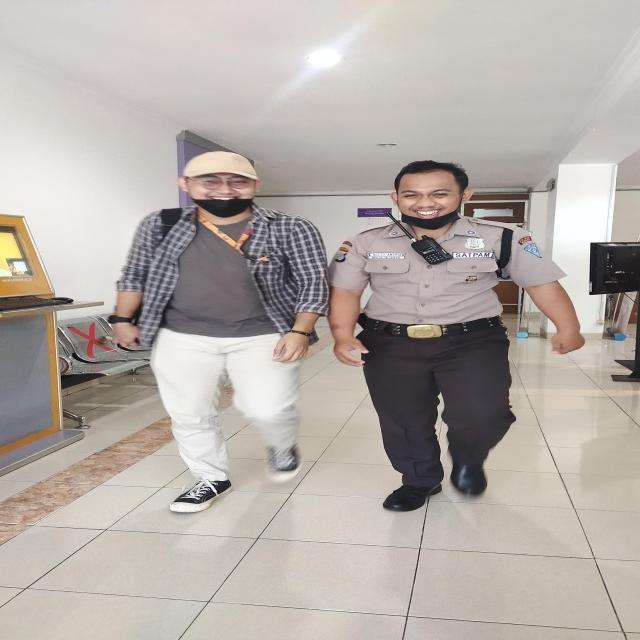hairnet: (390, 159, 474, 229), (180, 149, 263, 219)
